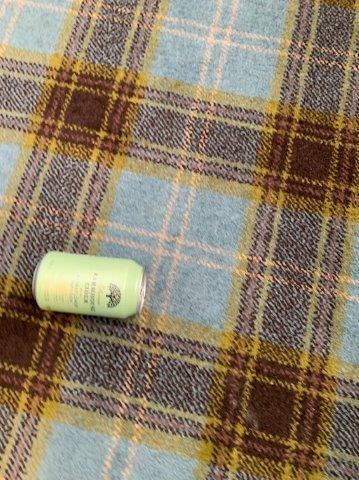kaleng: (33, 252, 146, 318)
